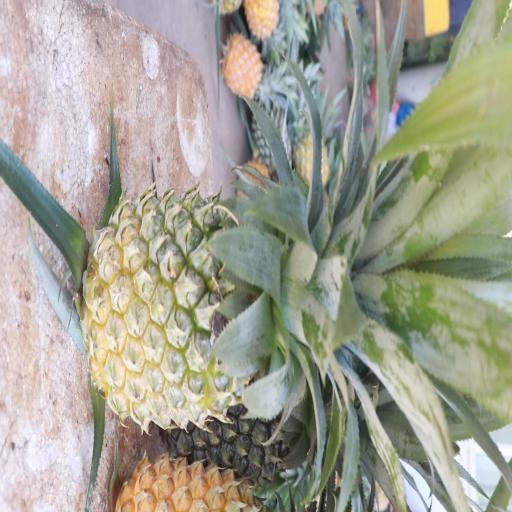------------------------------: (80, 196, 327, 428)
Pineapple - v8 v1: (219, 30, 277, 101), (291, 105, 331, 188)
